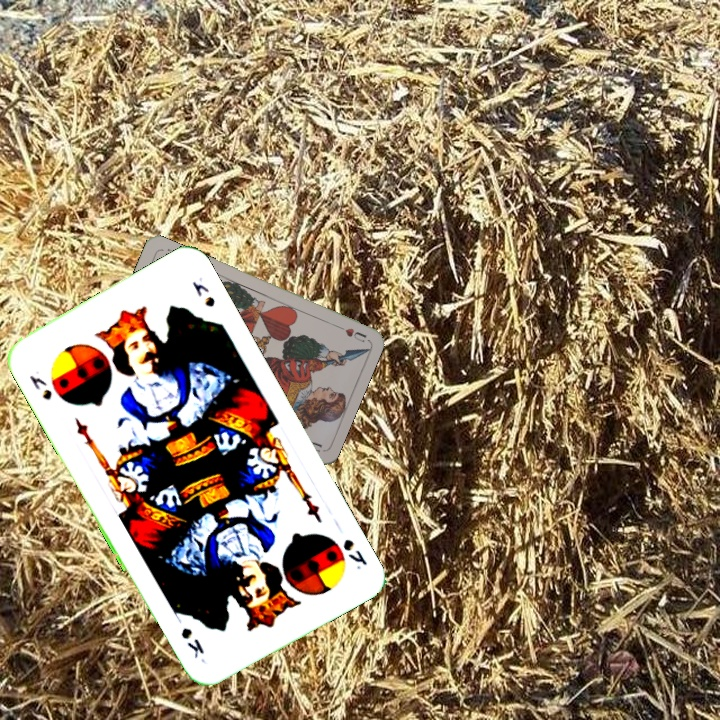HU: (331, 321, 369, 345)
SK: (339, 534, 370, 573), (25, 371, 55, 403)
